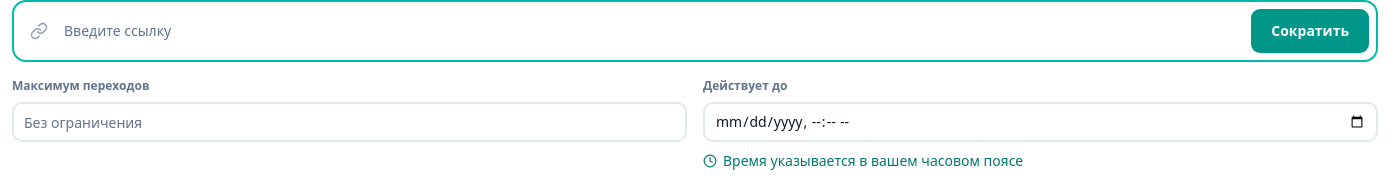
it: CreateLinkForm › fills the expiry with tomorrow at the current time on focus
What coordinates should you click on to do the following:
click the field labelled "Действует до"
I would click on:
 (1040, 122)
Its box is [703,102,1378,142].
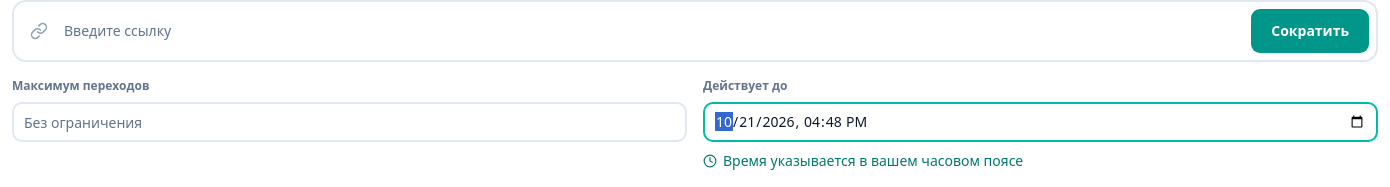
Now the field labelled "Действует до" holds "2026-10-21T16:48", box [703,102,1378,142]
